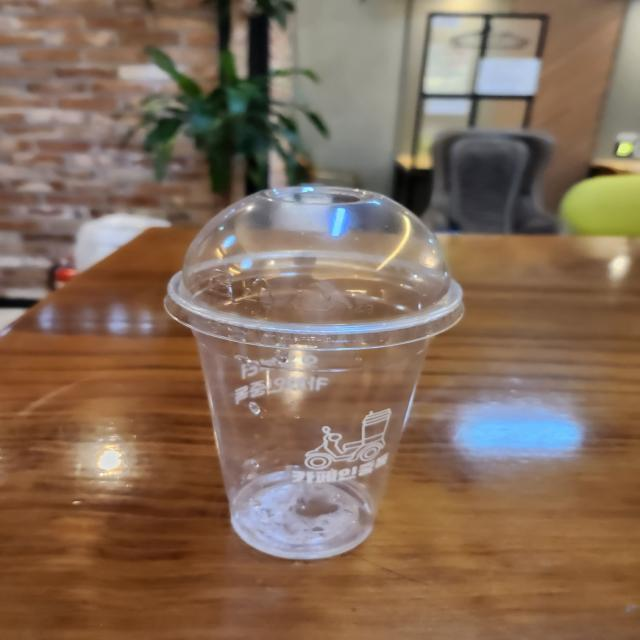plastic_cup_lid: (156, 178, 474, 360)
